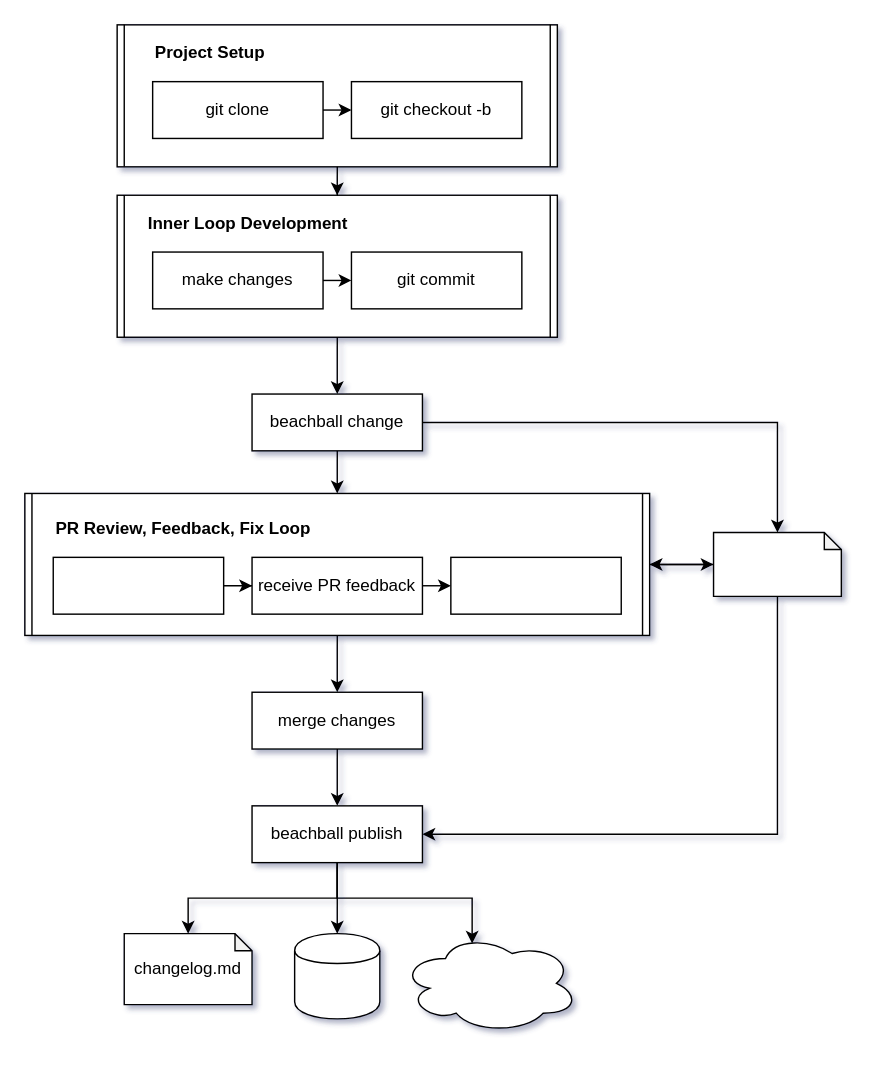
The diagram is 875 pixels wide and 1066 high, and some of its shapes have lost their labels. The shapes that lost their labels are listed below. From the top down, each one's box as (x1, y1, x2, y2) in pixels, then its label:
(712, 531, 841, 596): change file
(52, 556, 224, 614): push to remote create PR
(449, 556, 621, 614): make updates to change file
(293, 932, 380, 1019): git repo
(400, 932, 579, 1033): npm registry
